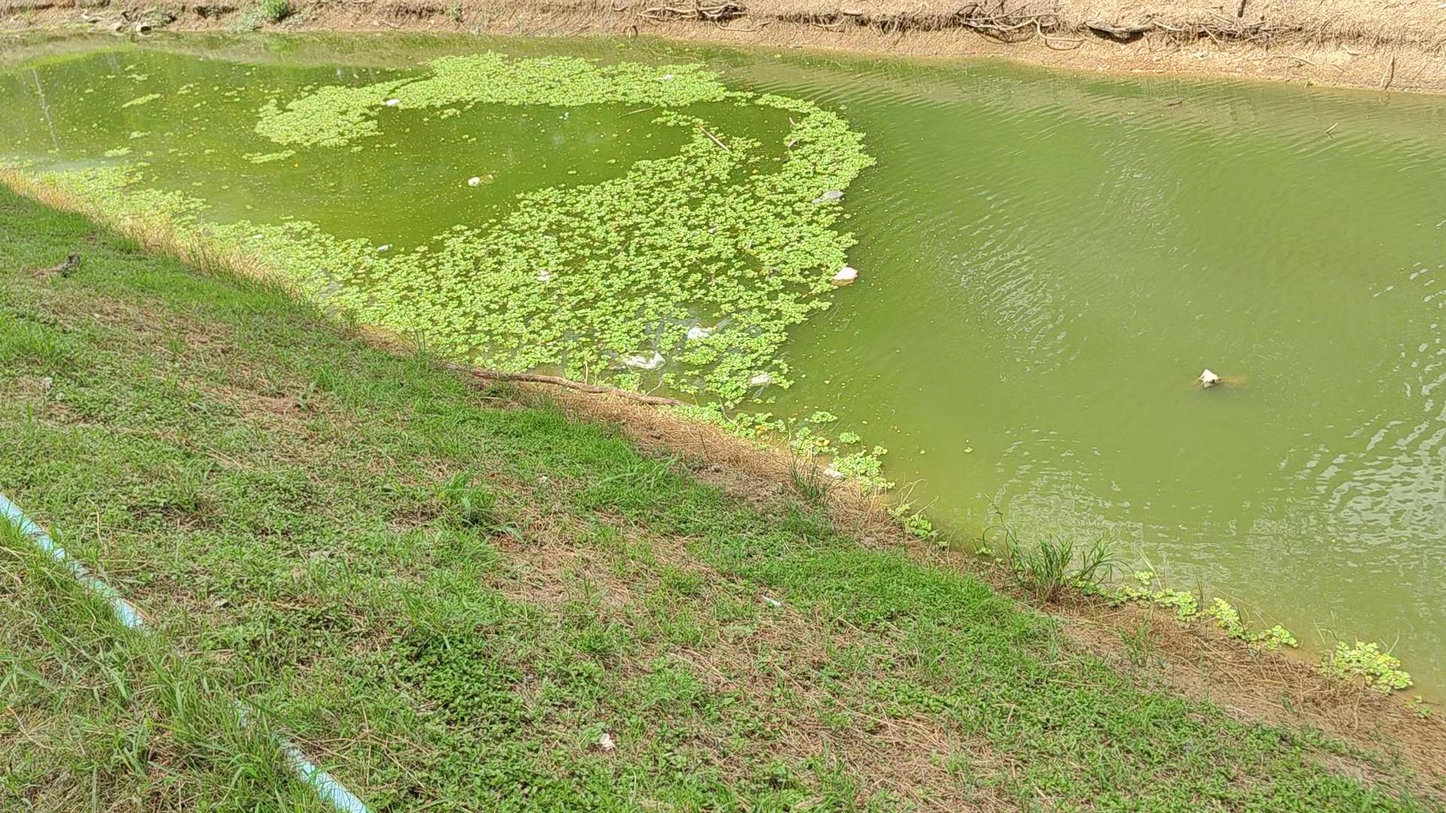trash: (624, 352, 664, 369), (832, 265, 858, 285), (1199, 369, 1222, 386), (687, 326, 712, 340), (749, 373, 771, 385), (819, 190, 843, 199), (538, 269, 552, 282), (385, 98, 399, 106), (377, 244, 391, 252), (469, 177, 480, 185), (662, 74, 673, 80)
